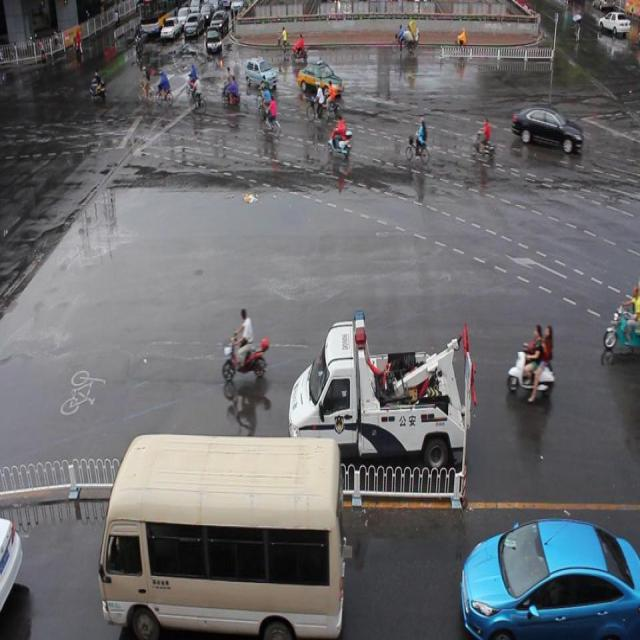bus: (288, 307, 475, 475)
car: (460, 515, 640, 640), (509, 101, 582, 155), (1, 512, 23, 615), (298, 60, 343, 98), (244, 54, 276, 92), (205, 24, 222, 55)
truck: (100, 429, 345, 640)
